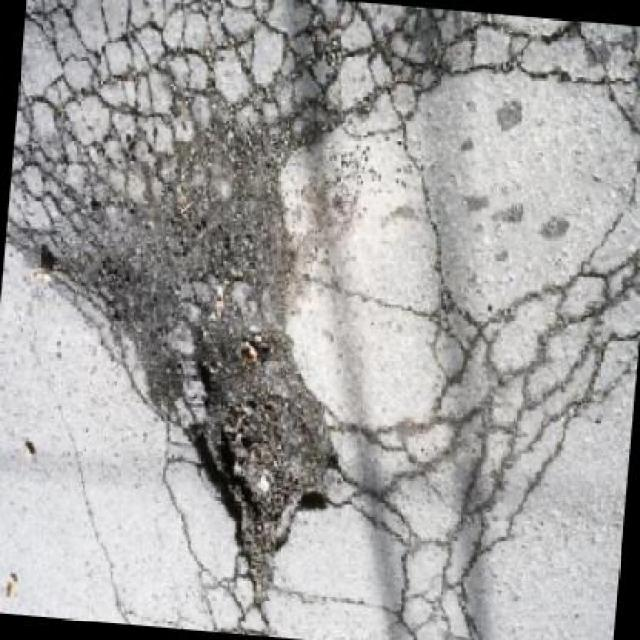pothole1: (164, 318, 353, 614)
